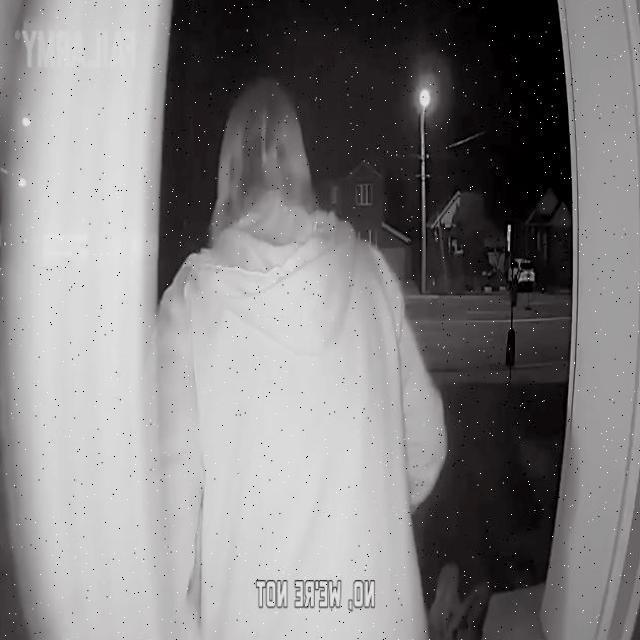person: (142, 85, 447, 640)
